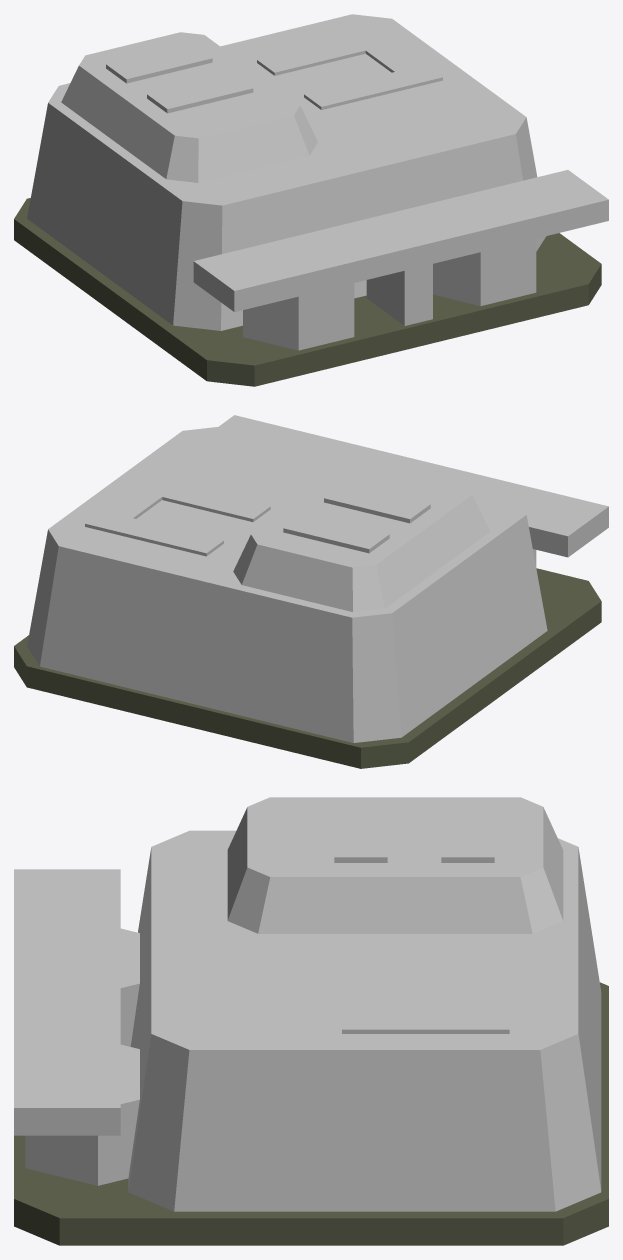
Rendered from mechhive_assembler.obj.
3 renders of one model, top to bottom at view 1: azimuth 30°, elevation 25°; view 2: azimuth 150°, elevation 25°; view 3: azimuth 270°, elevation 25°, orthographic. The views are drawn at different scales.
Parts seen in each view (by area): view 1: mechhive_assembler_1, mechhive_assembler_4, mechhive_assembler_0, mechhive_assembler_6, mechhive_assembler_2, mechhive_assembler_3, mechhive_assembler_5, mechhive_assembler_9, mechhive_assembler_11, mechhive_assembler_7, mechhive_assembler_8, mechhive_assembler_10; view 2: mechhive_assembler_1, mechhive_assembler_6, mechhive_assembler_0, mechhive_assembler_4, mechhive_assembler_9, mechhive_assembler_11, mechhive_assembler_8, mechhive_assembler_7, mechhive_assembler_10; view 3: mechhive_assembler_1, mechhive_assembler_6, mechhive_assembler_4, mechhive_assembler_0, mechhive_assembler_3, mechhive_assembler_10, mechhive_assembler_9, mechhive_assembler_7, mechhive_assembler_8, mechhive_assembler_11, mechhive_assembler_2.
Part boxes in pixels (<box>): mechhive_assembler_1: <box>27,14,545,330</box>; mechhive_assembler_4: <box>193,170,608,312</box>; mechhive_assembler_0: <box>14,198,601,386</box>; mechhive_assembler_6: <box>61,32,317,182</box>; mechhive_assembler_2: <box>243,283,354,350</box>; mechhive_assembler_3: <box>433,238,536,306</box>; mechhive_assembler_5: <box>366,264,432,325</box>; mechhive_assembler_9: <box>257,30,395,75</box>; mechhive_assembler_11: <box>304,64,441,109</box>; mechhive_assembler_7: <box>106,43,212,83</box>; mechhive_assembler_8: <box>147,73,253,113</box>; mechhive_assembler_10: <box>349,31,442,84</box>; mechhive_assembler_1: <box>27,426,547,742</box>; mechhive_assembler_6: <box>233,461,489,612</box>; mechhive_assembler_0: <box>14,568,601,768</box>; mechhive_assembler_4: <box>219,415,608,557</box>; mechhive_assembler_9: <box>85,511,223,556</box>; mechhive_assembler_11: <box>148,477,270,521</box>; mechhive_assembler_8: <box>324,483,430,523</box>; mechhive_assembler_7: <box>283,513,389,553</box>; mechhive_assembler_10: <box>86,476,165,533</box>; mechhive_assembler_1: <box>128,830,601,1211</box>; mechhive_assembler_6: <box>227,797,563,933</box>; mechhive_assembler_4: <box>14,869,120,1135</box>; mechhive_assembler_0: <box>14,982,608,1245</box>; mechhive_assembler_3: <box>25,1044,139,1185</box>; mechhive_assembler_10: <box>342,1010,509,1033</box>; mechhive_assembler_9: <box>464,952,509,1033</box>; mechhive_assembler_7: <box>441,802,494,862</box>; mechhive_assembler_8: <box>334,802,387,862</box>; mechhive_assembler_11: <box>342,952,387,1033</box>; mechhive_assembler_2: <box>120,928,139,1046</box>.
Bounding box in the file's own units: 3.9 × 1.69 × 3.9.
